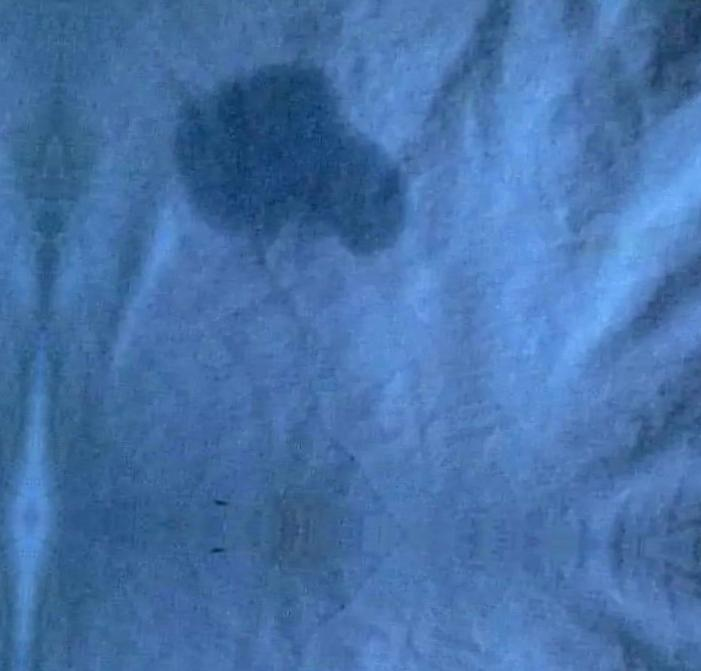stain: (164, 59, 424, 263)
